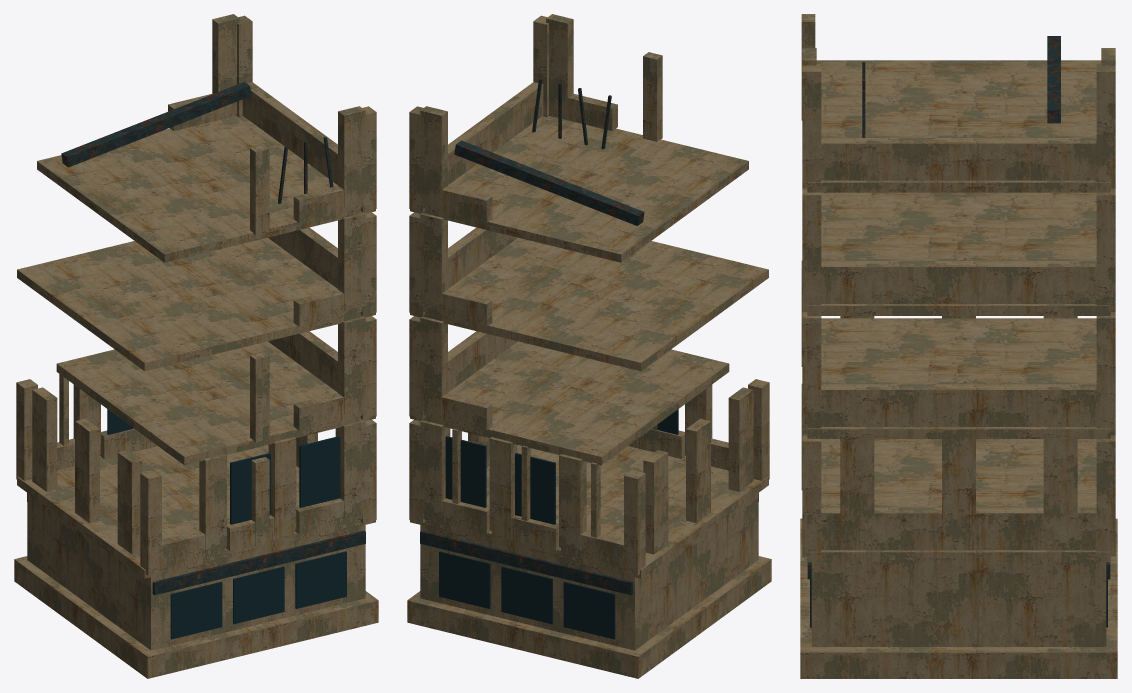
Rendered from city-corner.glb.
The picture shows the model from 3 angles, left to right: view 1: azimuth 30°, elevation 25°; view 2: azimuth 150°, elevation 25°; view 3: azimuth 270°, elevation 25°; orthographic projection. The views are drawn at different scales.
Parts seen in each view (by area): view 1: city-corner-concrete, city-corner-steel (×2); view 2: city-corner-concrete, city-corner-steel (×2); view 3: city-corner-concrete, city-corner-steel.
Part boxes in pixels (left/top/right/bottom): city-corner-concrete: left=14, top=14, right=378, bottom=678; city-corner-steel (×2): left=27, top=82, right=365, bottom=639; city-corner-concrete: left=407, top=14, right=771, bottom=678; city-corner-steel (×2): left=420, top=78, right=758, bottom=639; city-corner-concrete: left=800, top=14, right=1117, bottom=678; city-corner-steel: left=807, top=36, right=1110, bottom=579.
Bounding box in the file's own units: 7 × 14.89 × 7.
Materials: 3 (2 with a texture image).
